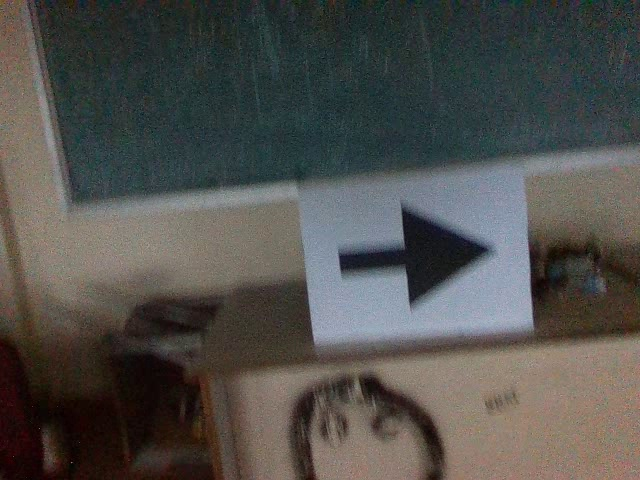Right: (325, 192, 501, 313)
